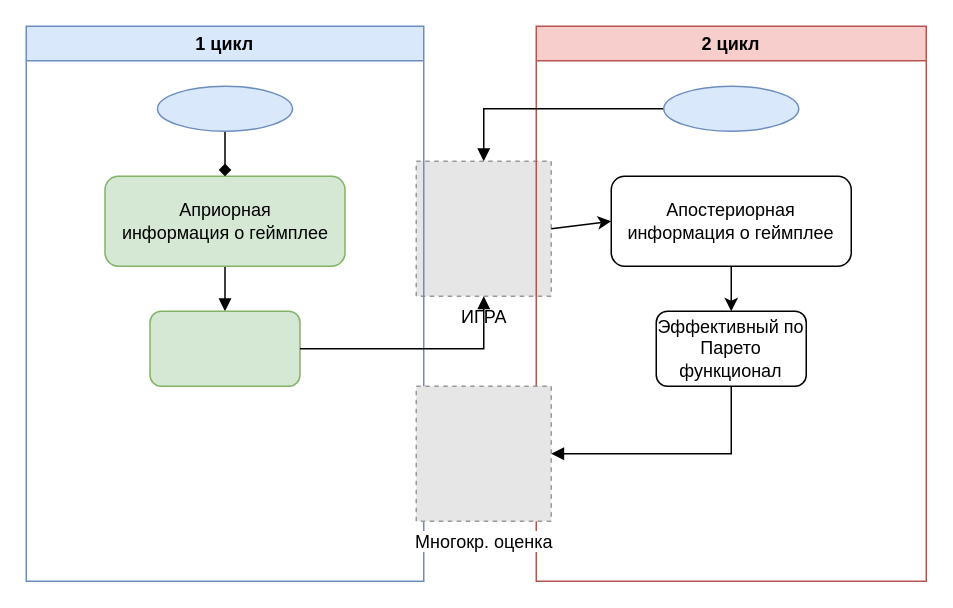
Image size: 953x608. Some labels were removed from this diagram. Grey dashed boxes stand in for pictures. The shapes that lost their labels are listed below. From the top down, each one's box as (x1, y1, x2, y2) in pixels, then its label:
(156, 85, 292, 131): Разработчик
(662, 85, 799, 131): Игрок
(148, 310, 300, 386): Минимальный функционал
